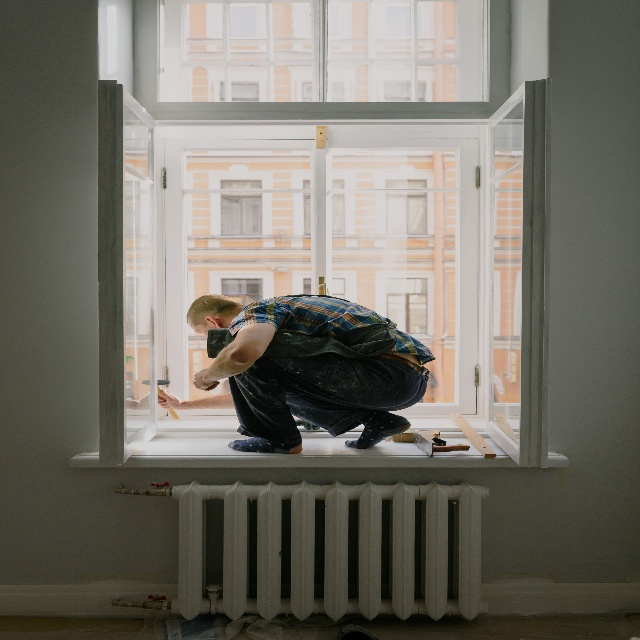Sin_guantes: (191, 365, 220, 392), (157, 387, 179, 413)
